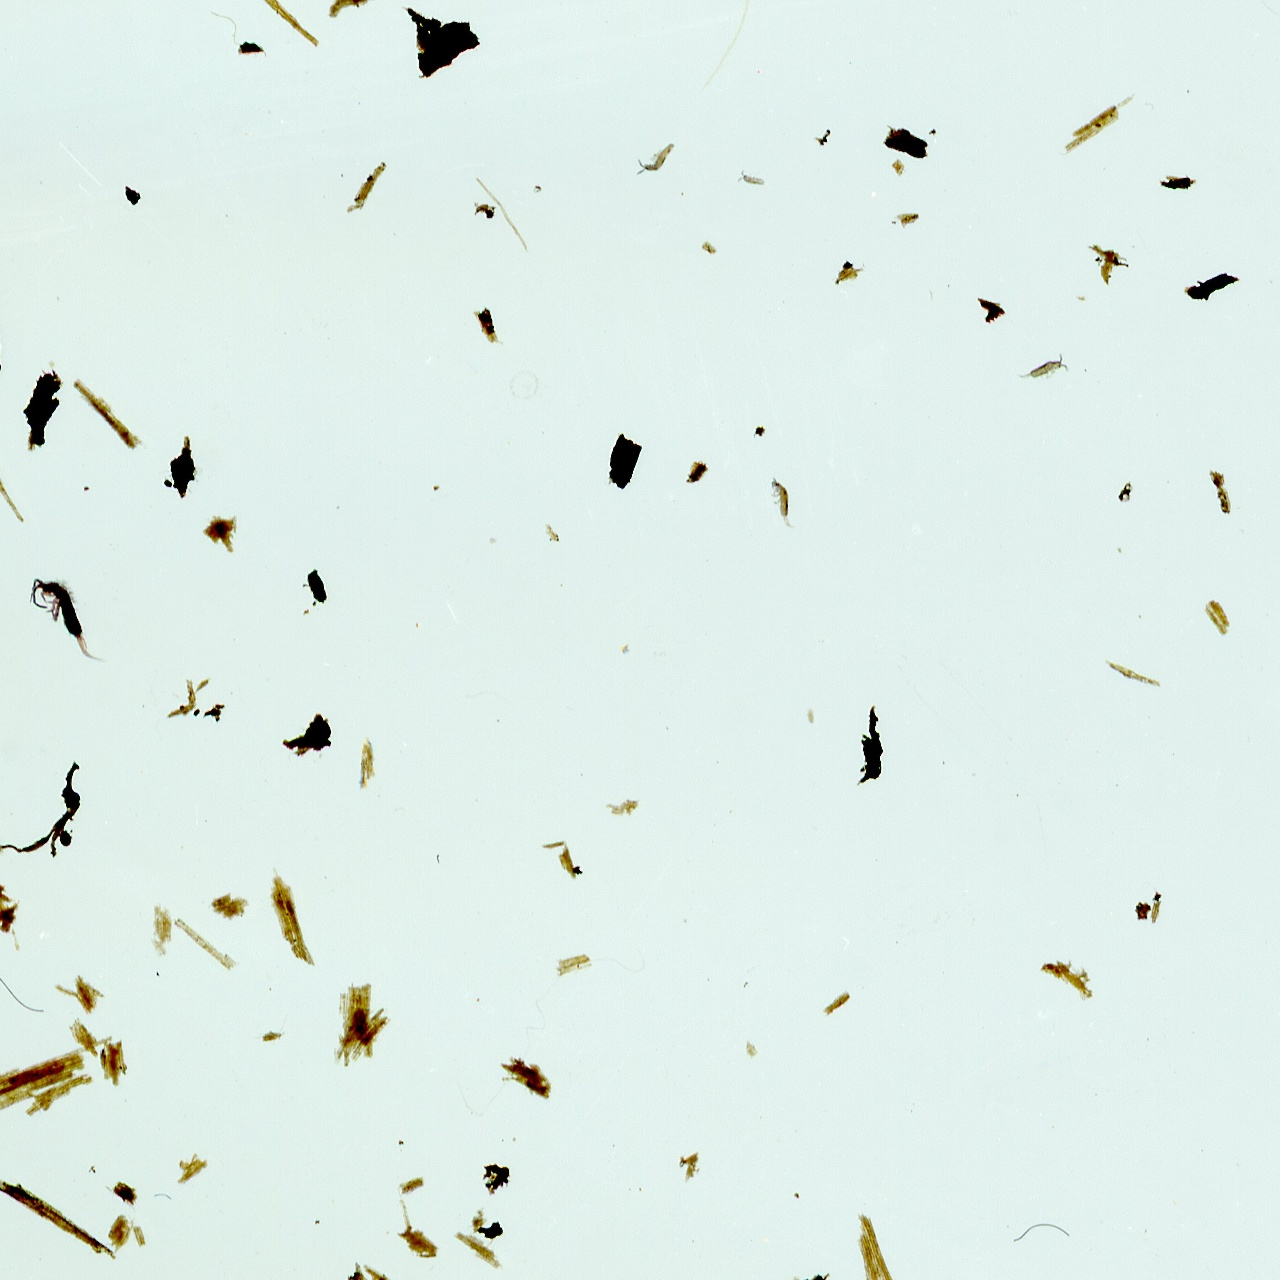arthropod: (12, 558, 119, 688), (1009, 344, 1073, 390), (633, 138, 680, 178), (770, 473, 800, 533), (730, 161, 773, 198)
